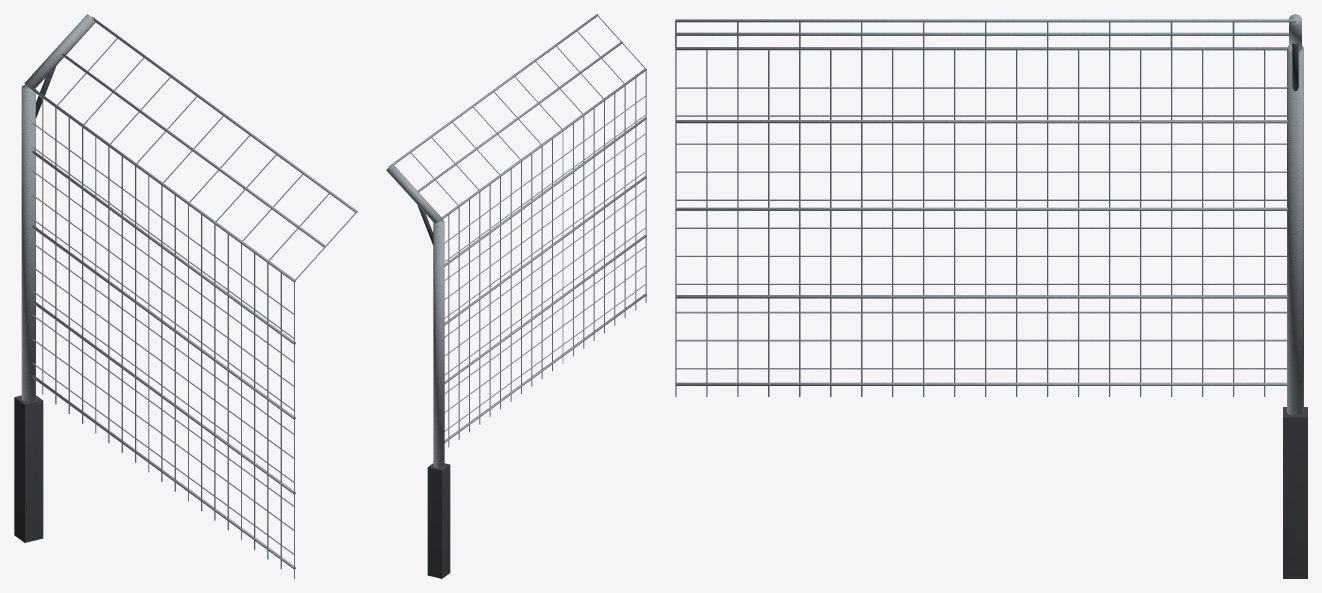
Rendered from street-fence_high.glb.
3 views of the same model, side by side, from view 1: azimuth 30°, elevation 25°; view 2: azimuth 150°, elevation 25°; view 3: azimuth 270°, elevation 25° (orthographic). The views are drawn at different scales.
Parts seen in each view (by area): view 1: galvanised, dark-steel; view 2: galvanised, dark-steel; view 3: galvanised, dark-steel.
Boxes of the visible parts, left/top/right/bottom form: galvanised: left=21, top=14, right=357, bottom=578; dark-steel: left=14, top=66, right=56, bottom=542; galvanised: left=386, top=14, right=646, bottom=468; dark-steel: left=417, top=205, right=450, bottom=578; galvanised: left=675, top=14, right=1303, bottom=415; dark-steel: left=1283, top=43, right=1307, bottom=578.
Bounding box in the file's own units: 0.6586 × 4.23 × 4.08.
Materials: 2 (2 with a texture image).
